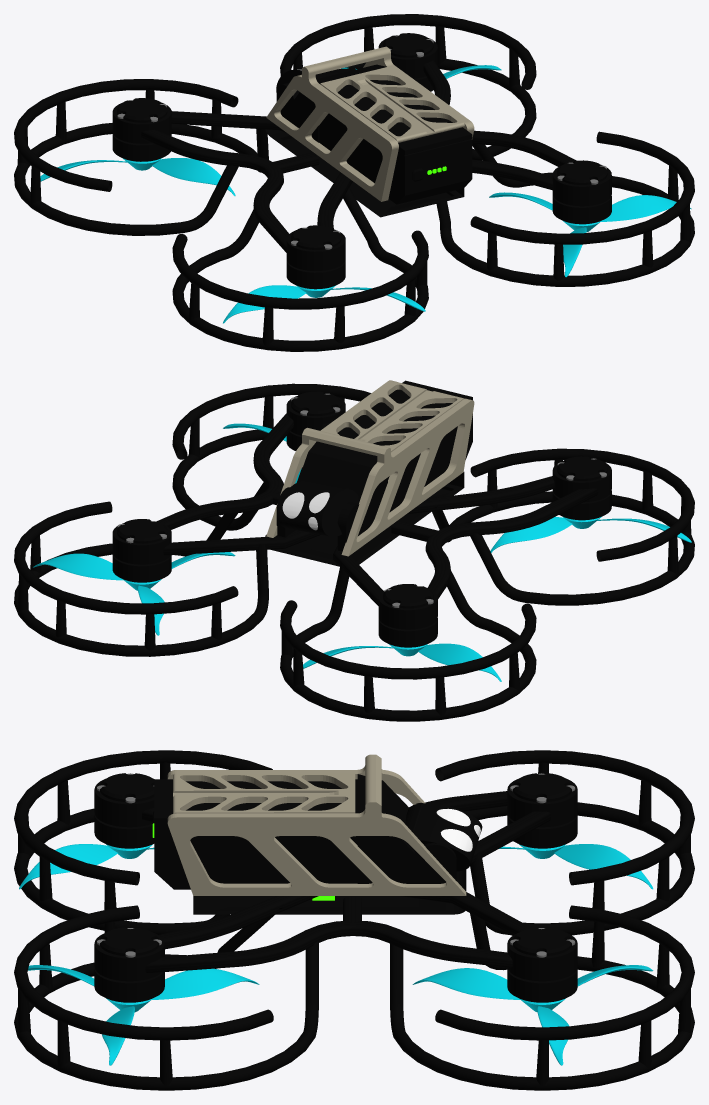
File: drone.glb
3 views of the same model, one above another, from view 1: azimuth 30°, elevation 25°; view 2: azimuth 150°, elevation 25°; view 3: azimuth 270°, elevation 25° (orthographic). The views are drawn at different scales.
Visible parts, largest first — view 1: Circle, Plane, Cylinder, Cube.001, Cube.004, Cylinder.006, Cube.003, Cylinder.001, Cube, Cube.002; view 2: Circle, Plane, Cube.001, Cylinder, Cylinder.006, Cube.002, Cube.003, Cylinder.001, Cube.004, Cylinder.005, Cube; view 3: Circle, Cube.001, Plane, Cylinder, Cylinder.006, Cube.004, Cube.003, Cylinder.001, Cube.002, Cube, Cylinder.005, Cylinder.008.
Part boxes in pixels (bbox=[...]): Circle: bbox=[14, 14, 694, 351]; Plane: bbox=[141, 60, 576, 252]; Cylinder: bbox=[112, 33, 611, 270]; Cube.001: bbox=[266, 46, 474, 201]; Cube.004: bbox=[319, 80, 472, 204]; Cylinder.006: bbox=[40, 65, 691, 323]; Cube.003: bbox=[320, 67, 464, 142]; Cylinder.001: bbox=[112, 76, 611, 289]; Cube: bbox=[265, 117, 464, 217]; Cube.002: bbox=[276, 64, 386, 142]; Circle: bbox=[14, 383, 694, 721]; Plane: bbox=[157, 413, 598, 605]; Cube.001: bbox=[266, 380, 474, 556]; Cylinder: bbox=[112, 391, 611, 629]; Cylinder.006: bbox=[33, 423, 691, 681]; Cube.002: bbox=[276, 441, 387, 551]; Cube.003: bbox=[327, 382, 464, 452]; Cylinder.001: bbox=[112, 431, 611, 647]; Cube.004: bbox=[337, 380, 472, 512]; Cylinder.005: bbox=[277, 480, 358, 536]; Cube: bbox=[265, 472, 464, 566]; Circle: bbox=[14, 750, 694, 1090]; Cube.001: bbox=[167, 754, 466, 895]; Plane: bbox=[142, 791, 550, 973]; Cylinder: bbox=[94, 773, 577, 981]; Cylinder.006: bbox=[19, 844, 653, 1065]; Cube.004: bbox=[154, 779, 357, 889]; Cube.003: bbox=[173, 773, 355, 813]; Cylinder.001: bbox=[94, 814, 577, 1002]; Cube.002: bbox=[357, 774, 456, 883]; Cube: bbox=[193, 869, 466, 914]; Cylinder.005: bbox=[405, 802, 482, 871]; Cylinder.008: bbox=[97, 773, 575, 957].
Size of the model in its own units: 7.03 by 2.01 by 7.16.
